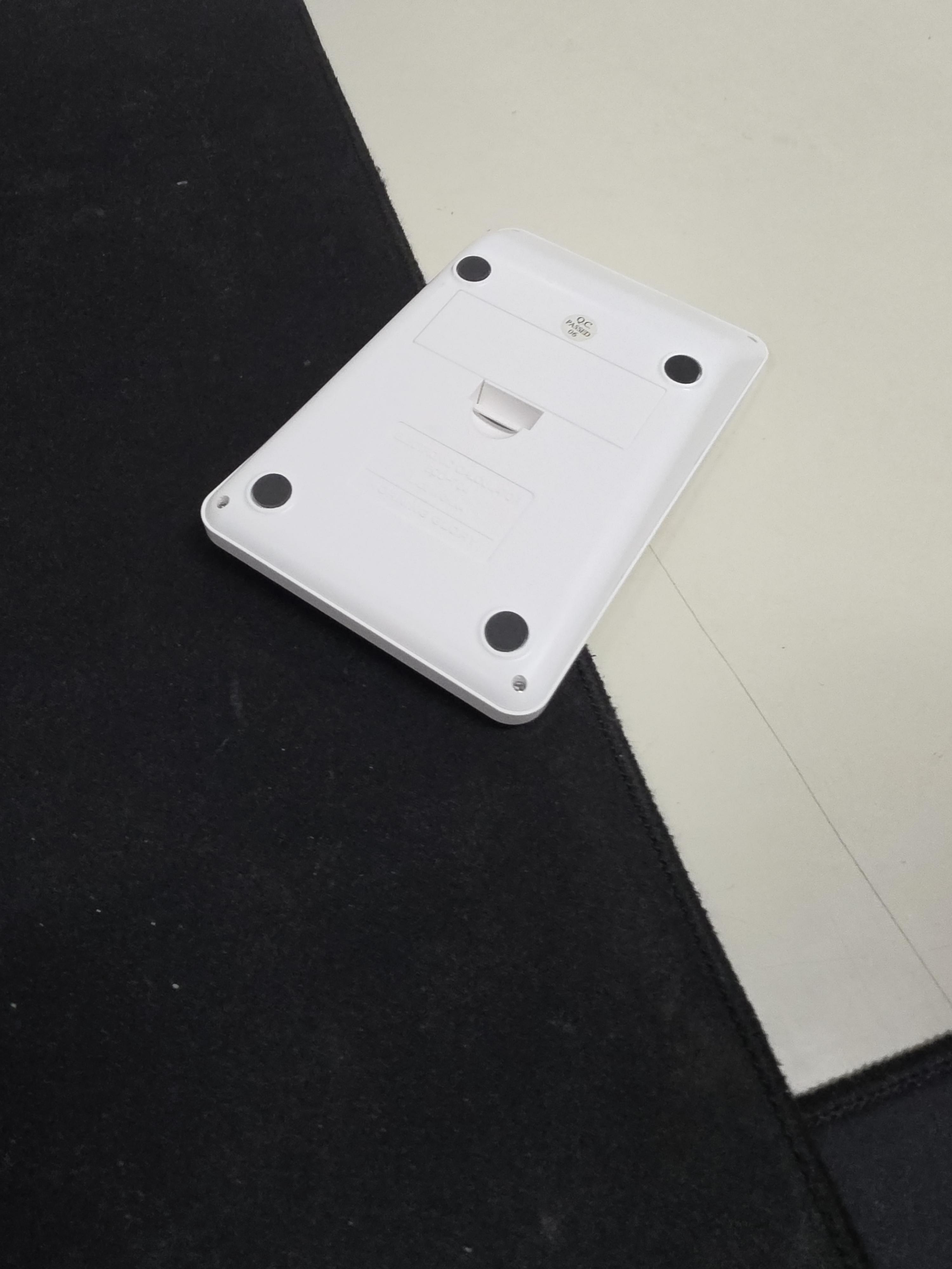calculator: (200, 227, 770, 726)
